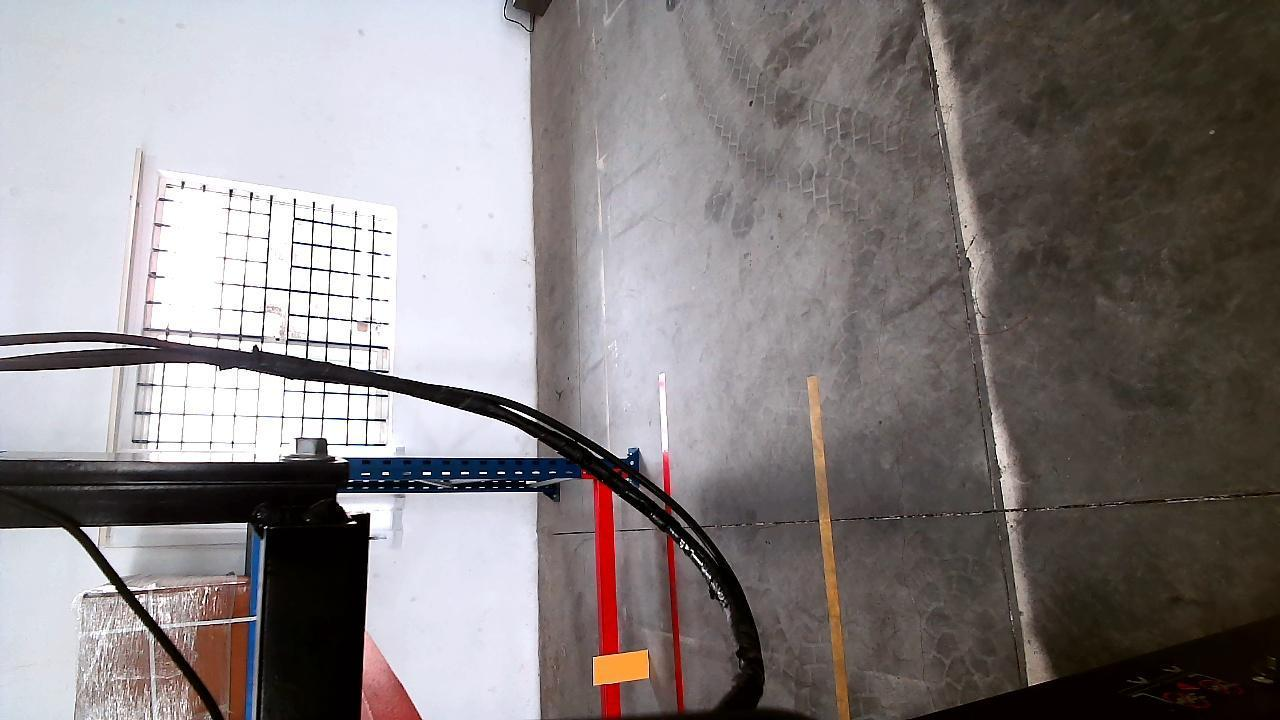h_rack: (596, 479, 627, 720)
orange_strip: (596, 649, 650, 685)
red_line: (655, 448, 686, 709)
yellow_line: (805, 368, 852, 713)
